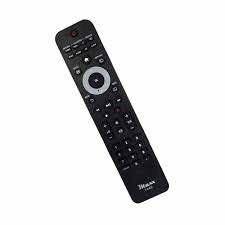remote control: (49, 15, 177, 204)
